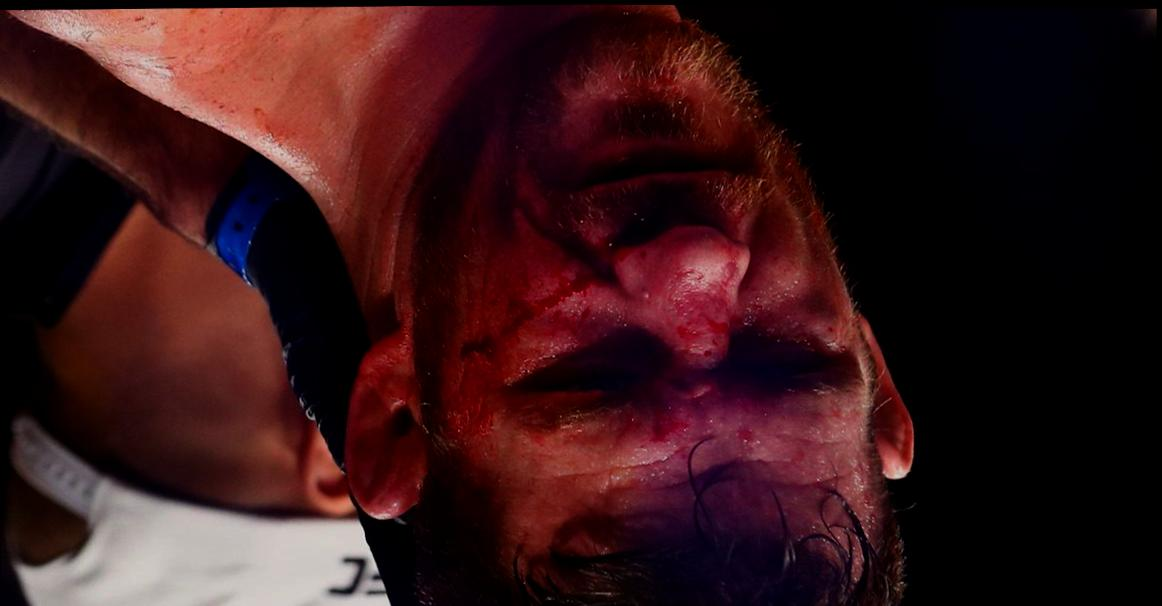Fire: (347, 134, 881, 556)
